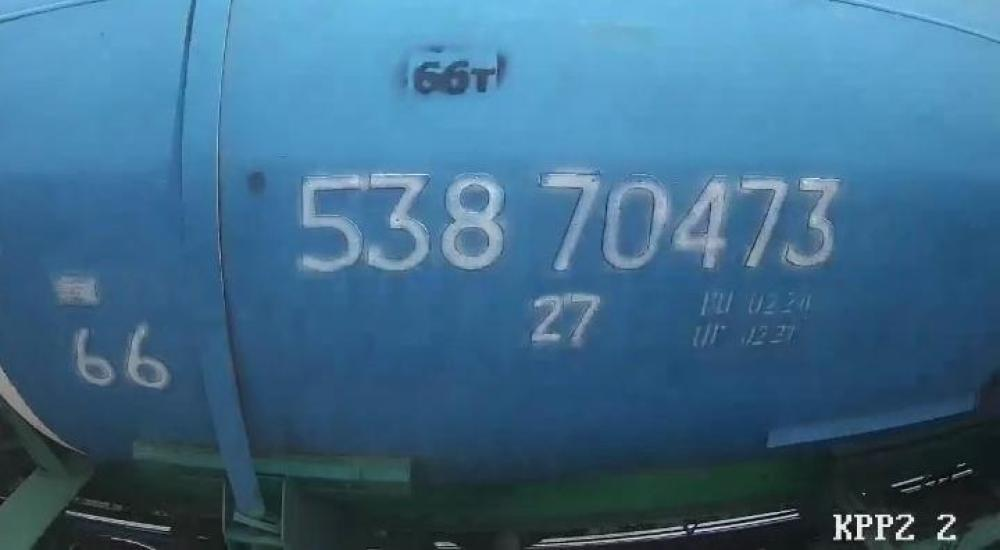Wagon-number: (292, 163, 841, 277)
